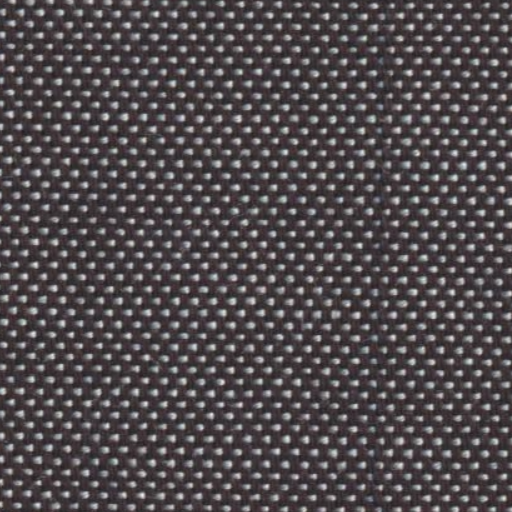TuoSha: (351, 10, 411, 479)
